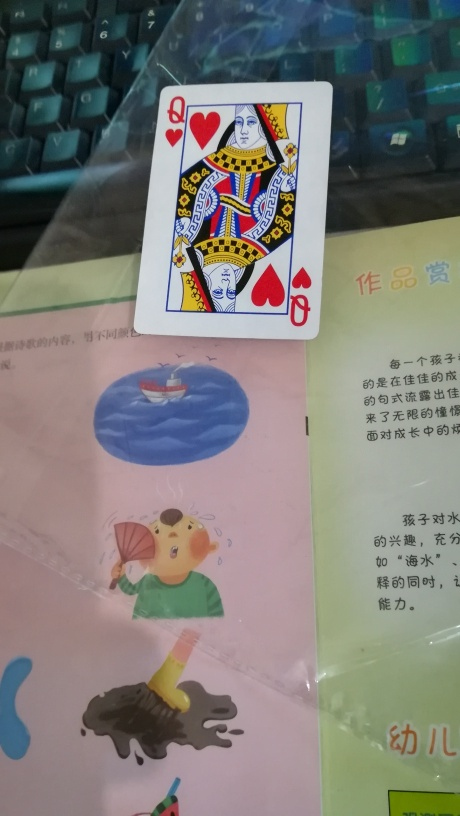hx q: (135, 79, 335, 348)
